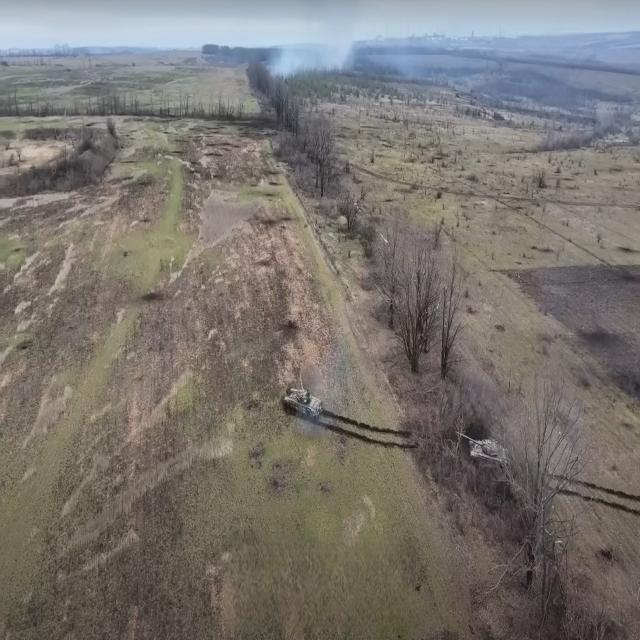MBT: (457, 428, 511, 474), (283, 371, 324, 425)
